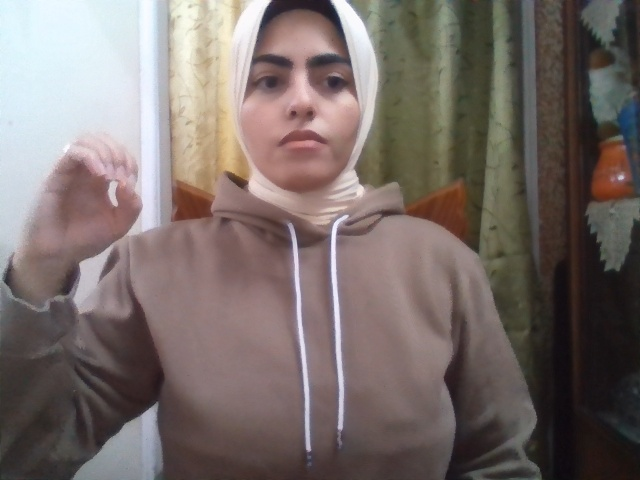O: (19, 132, 144, 263)
